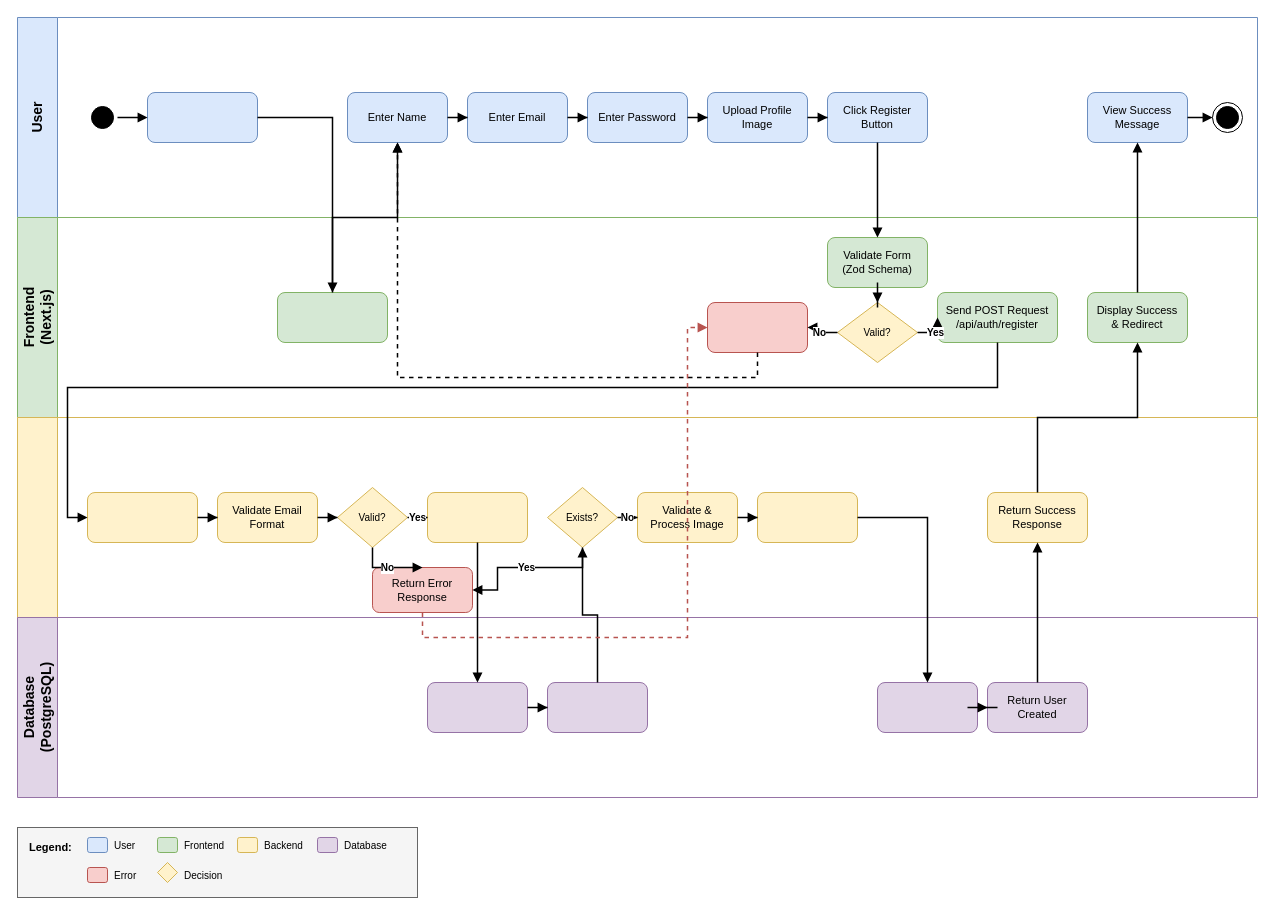
Image size: 1275x915. Some labels were removed from this diagram. The shapes that lost their labels are listed below. From the top down, each one's box as (x1, y1, x2, y2) in pixels, then its label:
(146, 92, 258, 142): Navigate to Registration Page
(276, 292, 388, 342): Display Registration Form
(706, 302, 808, 352): Show Validation Error
(86, 492, 198, 542): Receive Registration Request
(426, 492, 528, 542): Check Email Already Exists
(16, 416, 1258, 618): Backend (NestJS)
(756, 492, 858, 542): Hash Password (bcrypt)
(426, 682, 528, 732): Query: Check Email Exists
(546, 682, 648, 732): Return Query Result
(876, 682, 978, 732): INSERT: Create User Record
